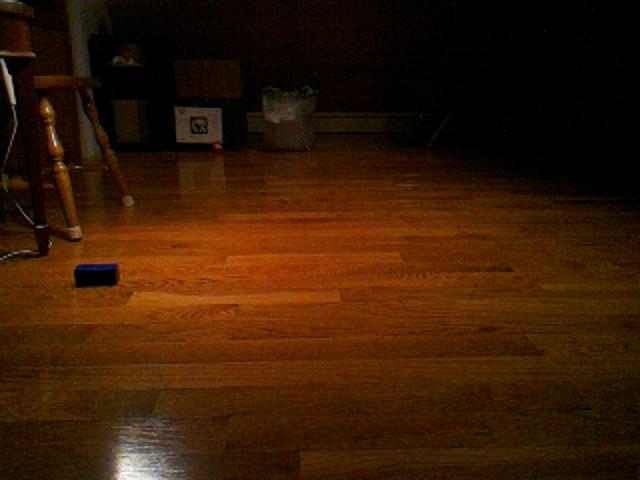blue: (73, 261, 121, 288)
